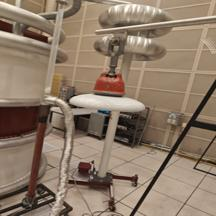insulator: (61, 67, 149, 118)
